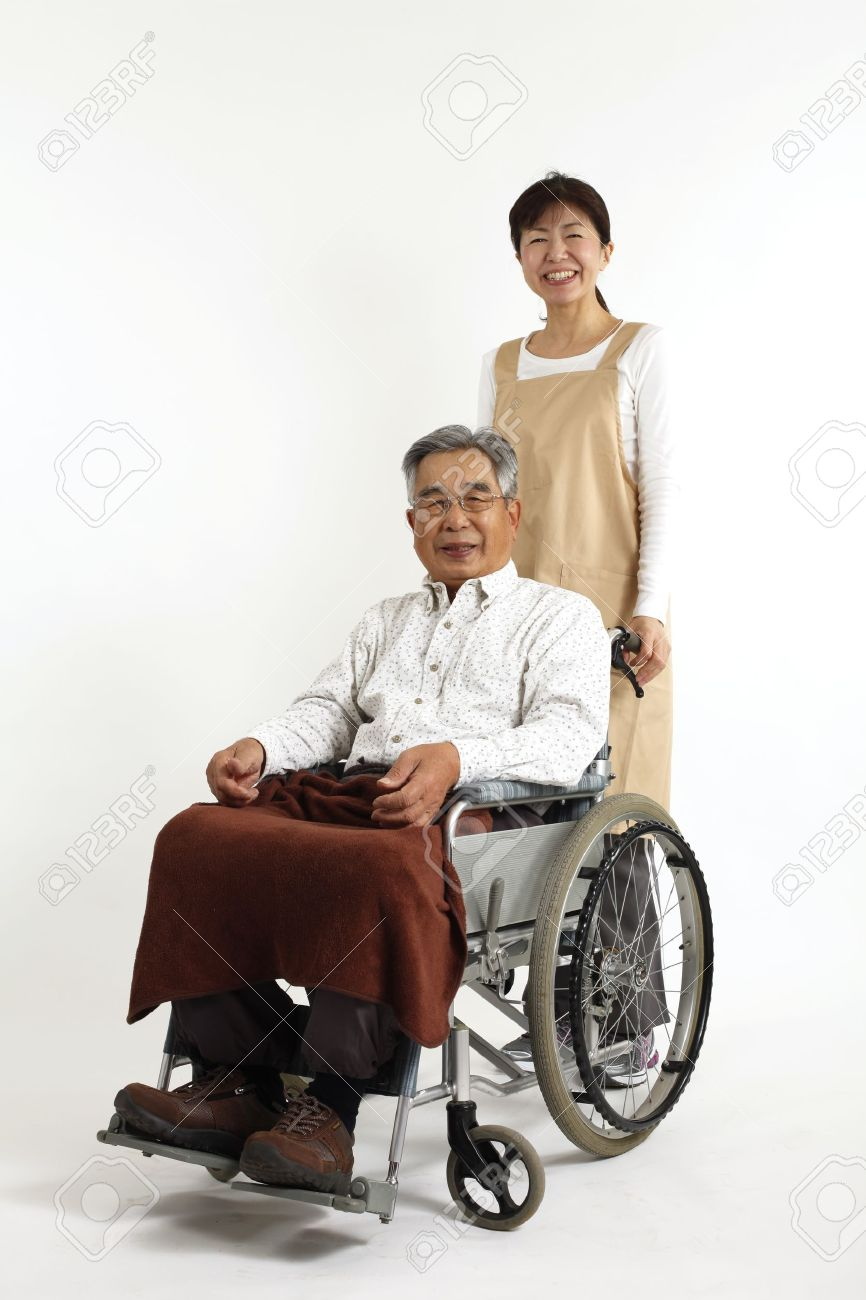wheelchair: (94, 422, 716, 1234)
